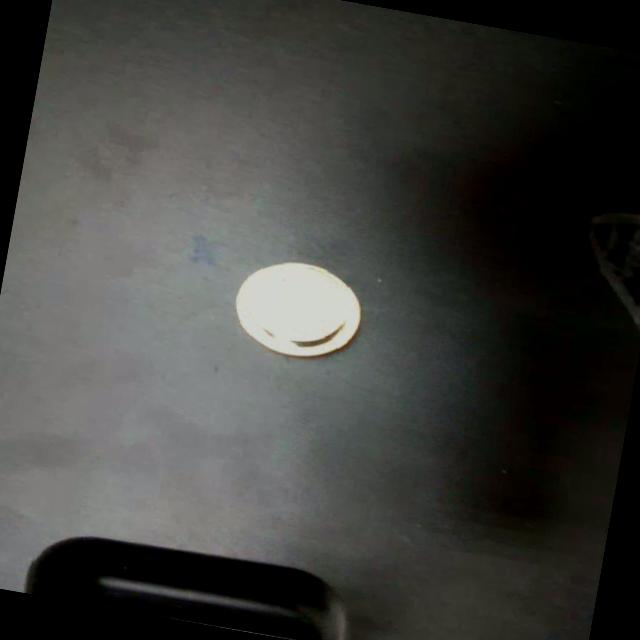sensor: (225, 249, 368, 366)
